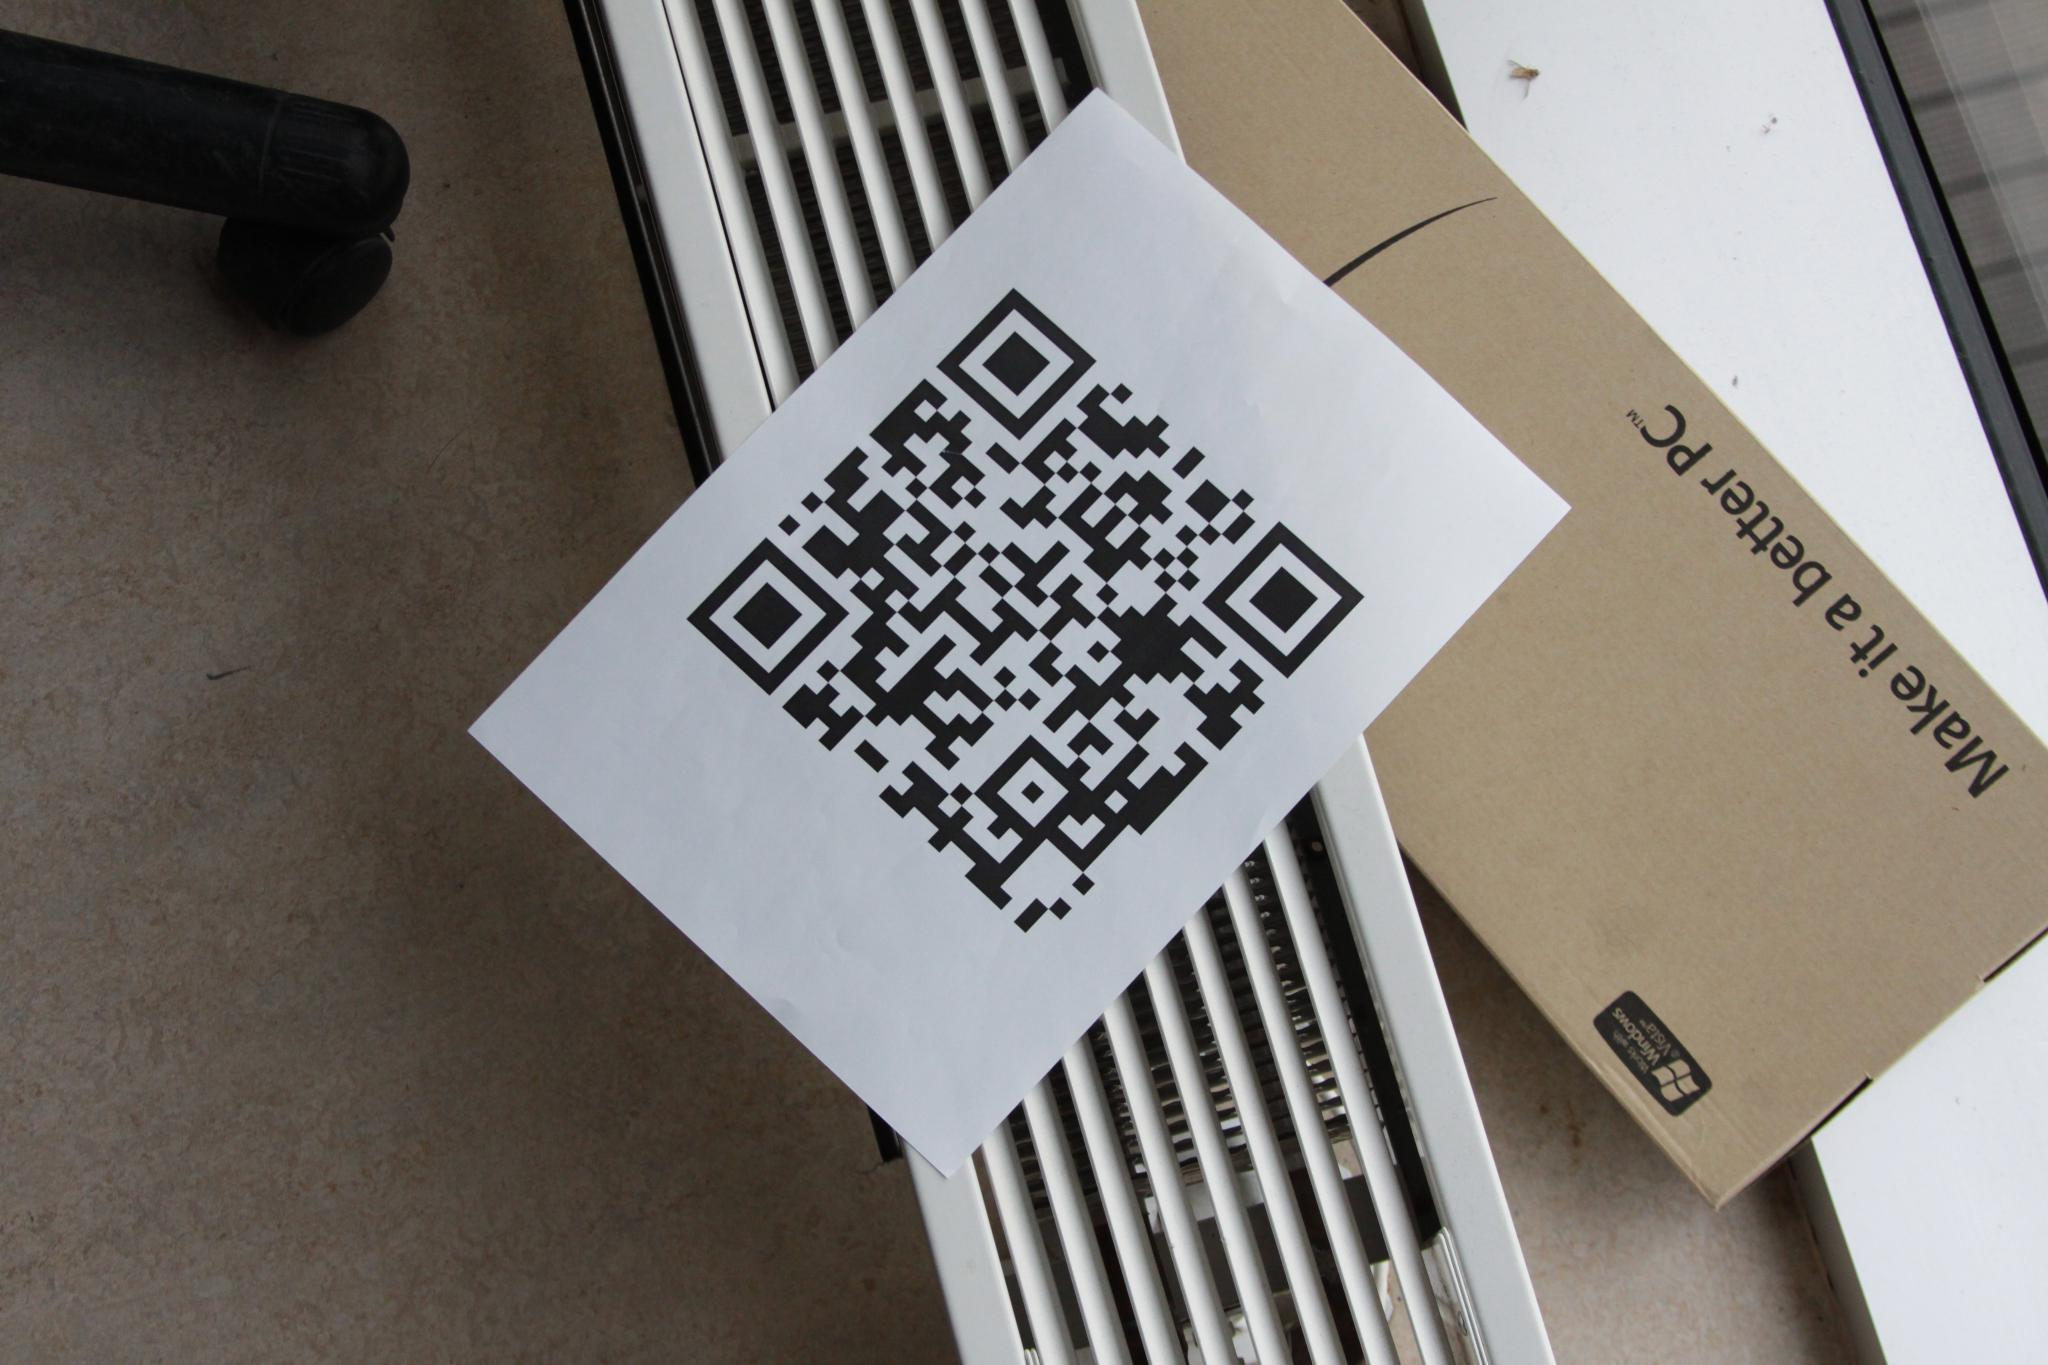Finder pattern: (1198, 526, 1370, 681), (681, 542, 856, 695), (938, 289, 1101, 443)
